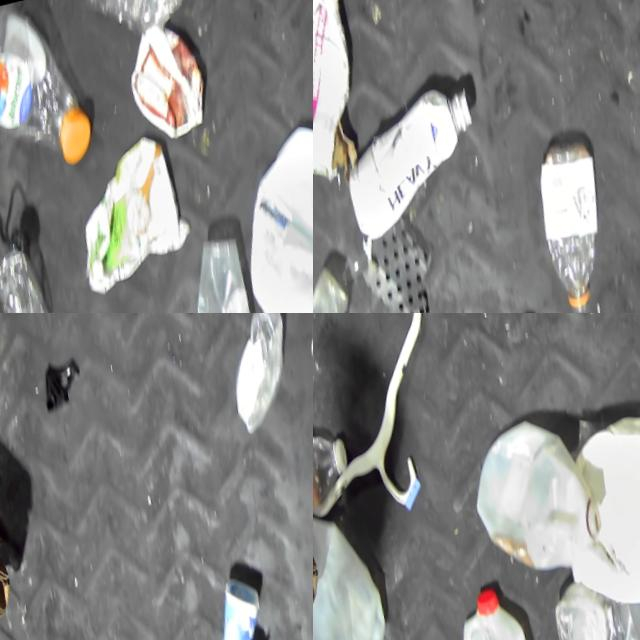milk_jug: (470, 417, 621, 593), (225, 118, 313, 313), (571, 403, 640, 618), (454, 591, 552, 640)
plastic_bottle: (0, 0, 112, 192), (530, 135, 630, 313), (313, 423, 363, 520)
